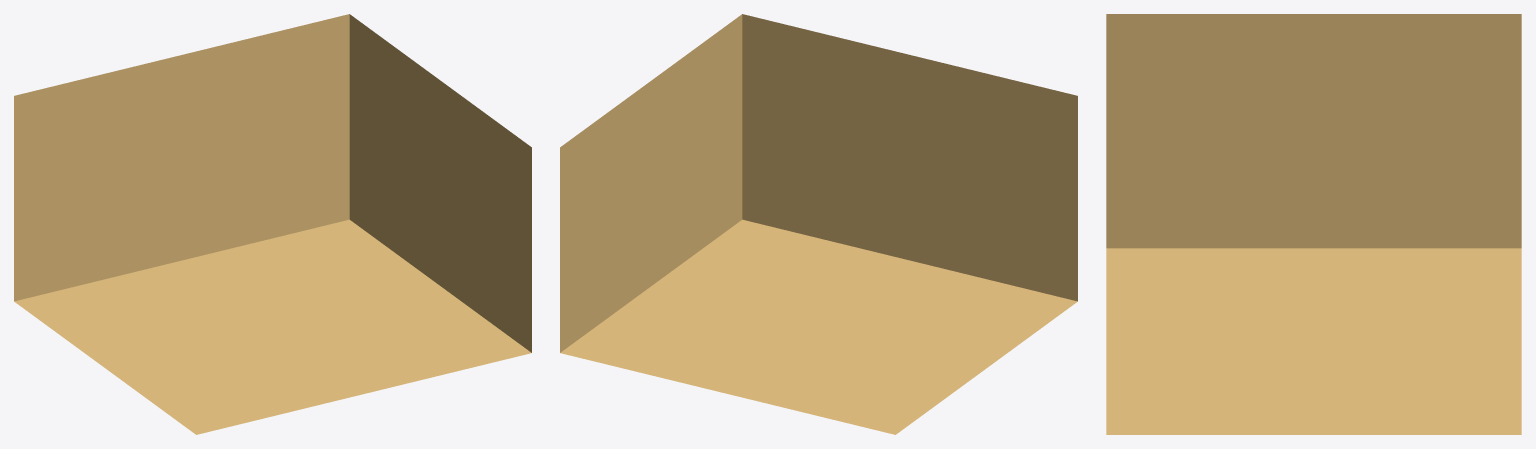
File: mandaps-hemant-samwat-008.glb
3 renders of one model, left to right at view 1: azimuth 30°, elevation 25°; view 2: azimuth 150°, elevation 25°; view 3: azimuth 270°, elevation 25°, orthographic. The views are drawn at different scales.
Visible parts, largest first — view 1: Hemant Samwat Mandaps; view 2: Hemant Samwat Mandaps; view 3: Hemant Samwat Mandaps.
Part boxes in pixels (x1,y1,x2,y2): Hemant Samwat Mandaps: (14,14,531,434); Hemant Samwat Mandaps: (560,14,1077,434); Hemant Samwat Mandaps: (1106,14,1521,434).
Size of the model in its own units: 13.05 by 7.64 by 12.28.
